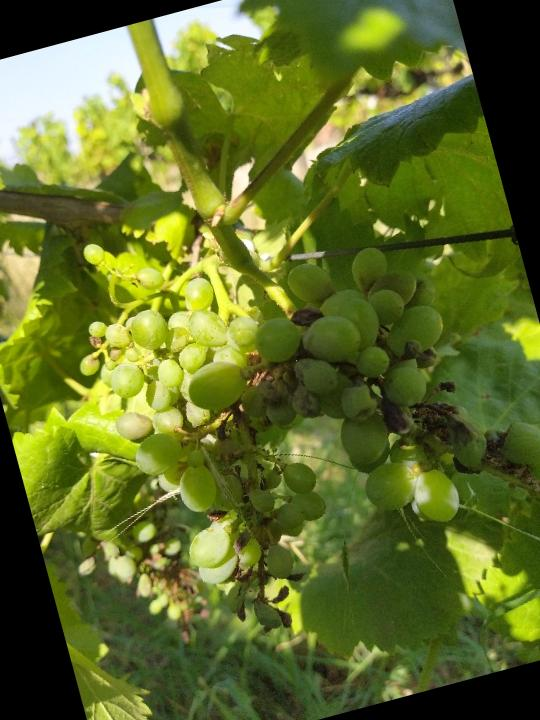grape: (79, 184, 540, 677)
